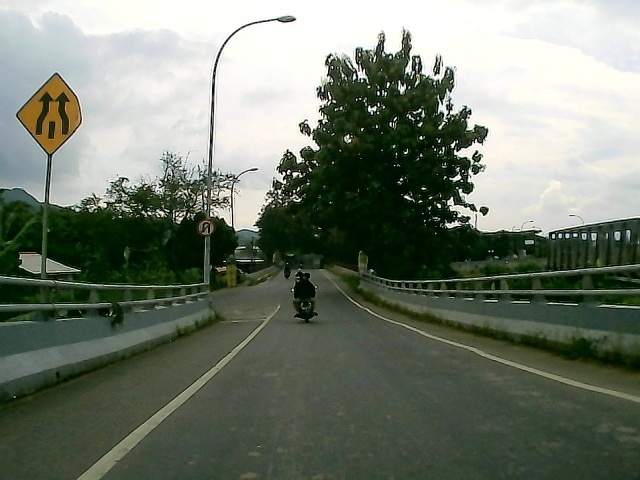Akhir bangunan pemisah satu arah: (11, 71, 87, 158)
Dilarang berbalik arah: (194, 219, 214, 239)
